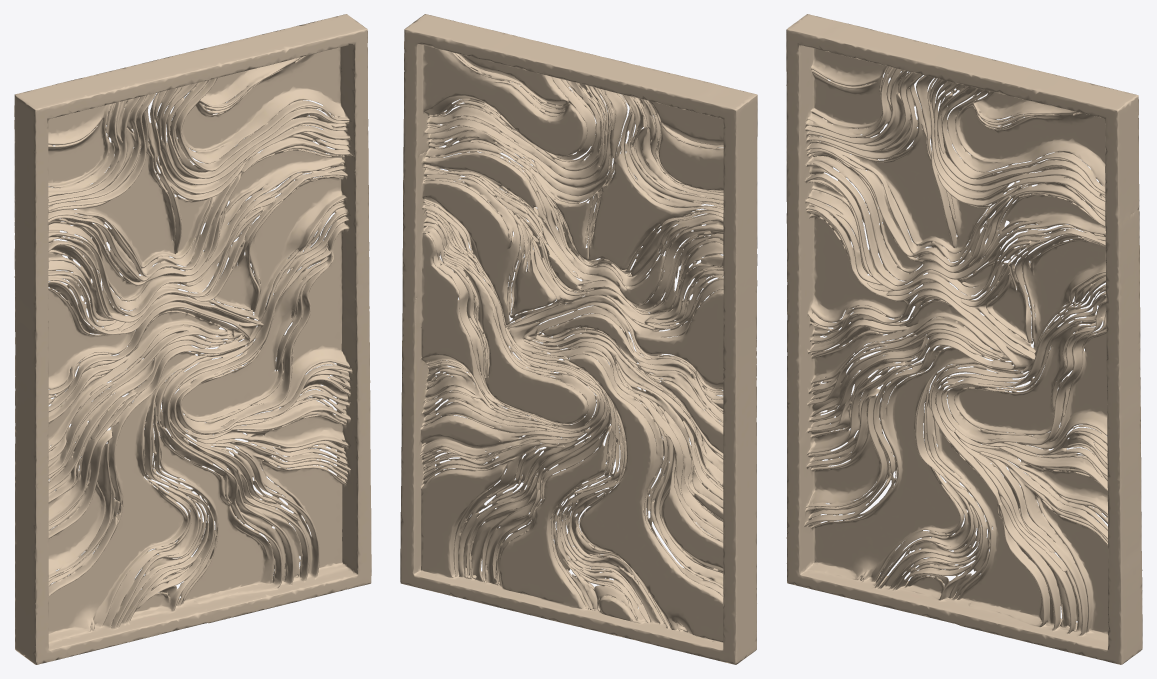
File: wall-art-cream-wave-relief.glb
The picture shows the model from 3 angles, left to right: view 1: azimuth 30°, elevation 25°; view 2: azimuth 150°, elevation 25°; view 3: azimuth 330°, elevation 25°; orthographic projection.
Parts seen in each view (by area): view 1: world; view 2: world; view 3: world.
Boxes of the visible parts, <box> form: world: <box>14,14,371,664</box>; world: <box>400,14,757,664</box>; world: <box>786,14,1142,664</box>.
Size of the model in its own units: 0.6307 by 0.9966 by 0.0693.
1 material, 1 textured.
